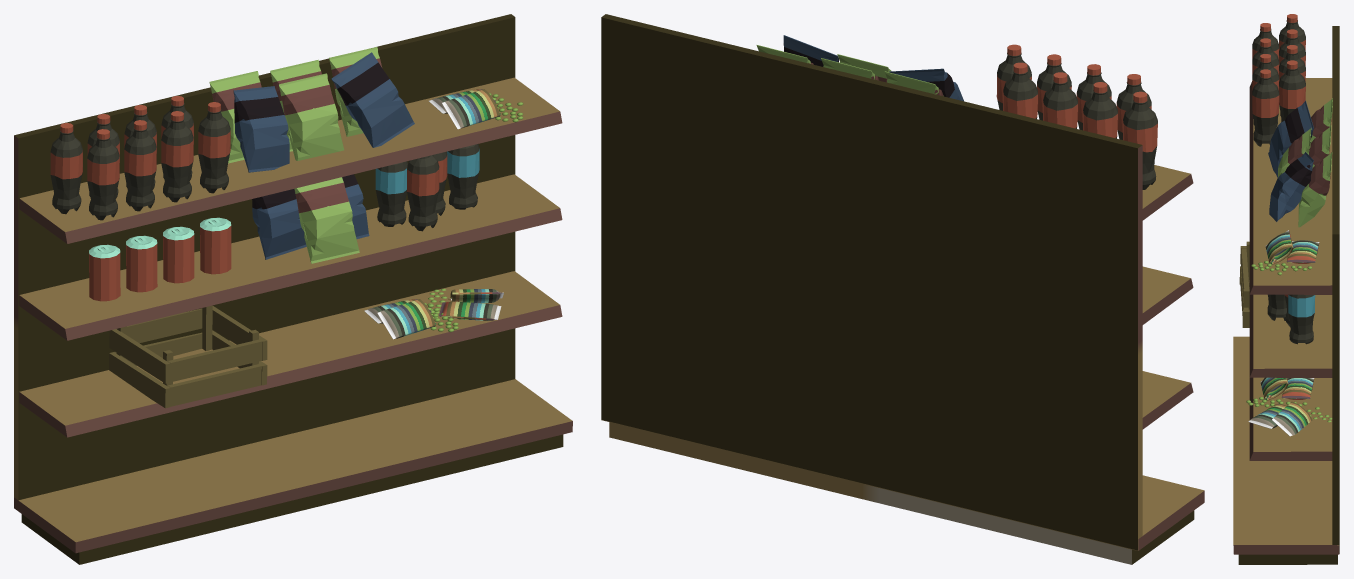
Rendered from shelveWithProducts.fbx.
3 views of the same model, side by side, from view 1: azimuth 30°, elevation 25°; view 2: azimuth 150°, elevation 25°; view 3: azimuth 270°, elevation 25° (orthographic). The views are drawn at different scales.
Visible parts, largest first — view 1: bottom.003, Kostka.003, group478861069.005, group478861069, group478861069.008, group478861069.003, group478861069.007, Bottle, Bottle.005, Bottle.006, Bottle.002, Bottle.001 (+14 smaller); view 2: bottom.003, Bottle, Bottle.003, Bottle.004, Bottle.007, group478861069.003, Bottle.006, Bottle.001, Bottle.002, Bottle.005, group478861069.005; view 3: bottom.003, group478861069.005, Bottle.006, Skittle_216, group478861069.003, Skittle_216.002, group478861069.004, Skittle_216.001, Bottle.011, Bottle.007, Kostka.003, group478861069 (+9 smaller).
Boxes of the visible parts, <box> form: bottom.003: <box>14,14,572,564</box>; Kostka.003: <box>109,305,267,408</box>; group478861069.005: <box>331,52,414,147</box>; group478861069: <box>278,73,344,160</box>; group478861069.008: <box>294,177,359,263</box>; group478861069.003: <box>233,86,289,172</box>; group478861069.007: <box>252,189,306,259</box>; Bottle: <box>50,123,82,214</box>; Bottle.005: <box>161,111,193,202</box>; Bottle.006: <box>198,102,230,193</box>; Bottle.002: <box>124,120,156,211</box>; Bottle.001: <box>87,129,119,220</box>; bottom.003: <box>601,14,1204,564</box>; Bottle: <box>1123,91,1157,189</box>; Bottle.003: <box>1083,82,1117,138</box>; Bottle.004: <box>1043,72,1077,128</box>; Bottle.007: <box>1003,62,1037,118</box>; group478861069.003: <box>889,68,963,101</box>; Bottle.006: <box>996,44,1031,110</box>; Bottle.001: <box>1116,74,1151,139</box>; Bottle.002: <box>1076,64,1111,130</box>; Bottle.005: <box>1037,54,1071,120</box>; group478861069.005: <box>783,35,838,66</box>; bottom.003: <box>1233,26,1339,564</box>; group478861069.005: <box>1269,152,1313,221</box>; Bottle.006: <box>1252,69,1279,146</box>; Skittle_216: <box>1251,230,1319,275</box>; group478861069.003: <box>1268,100,1313,177</box>; Skittle_216.002: <box>1248,401,1332,436</box>; group478861069.004: <box>1298,152,1332,227</box>; Skittle_216.001: <box>1246,377,1314,407</box>; Bottle.011: <box>1288,294,1315,344</box>; Bottle.007: <box>1279,60,1305,122</box>; Kostka.003: <box>1239,241,1249,327</box>; group478861069: <box>1278,128,1311,177</box>.
Bounding box in the file's own units: 2689 × 2129 × 578.
